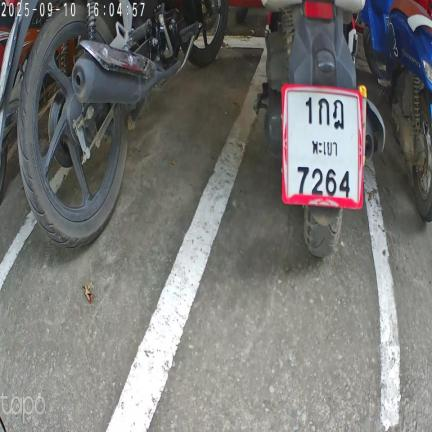1: (300, 95, 313, 124)
2: (311, 167, 324, 196)
4: (339, 168, 352, 199)
6: (326, 167, 338, 197)
7: (294, 165, 309, 194)
A01: (315, 97, 331, 126)
A14: (332, 98, 346, 130)
PYO: (309, 137, 341, 158)
